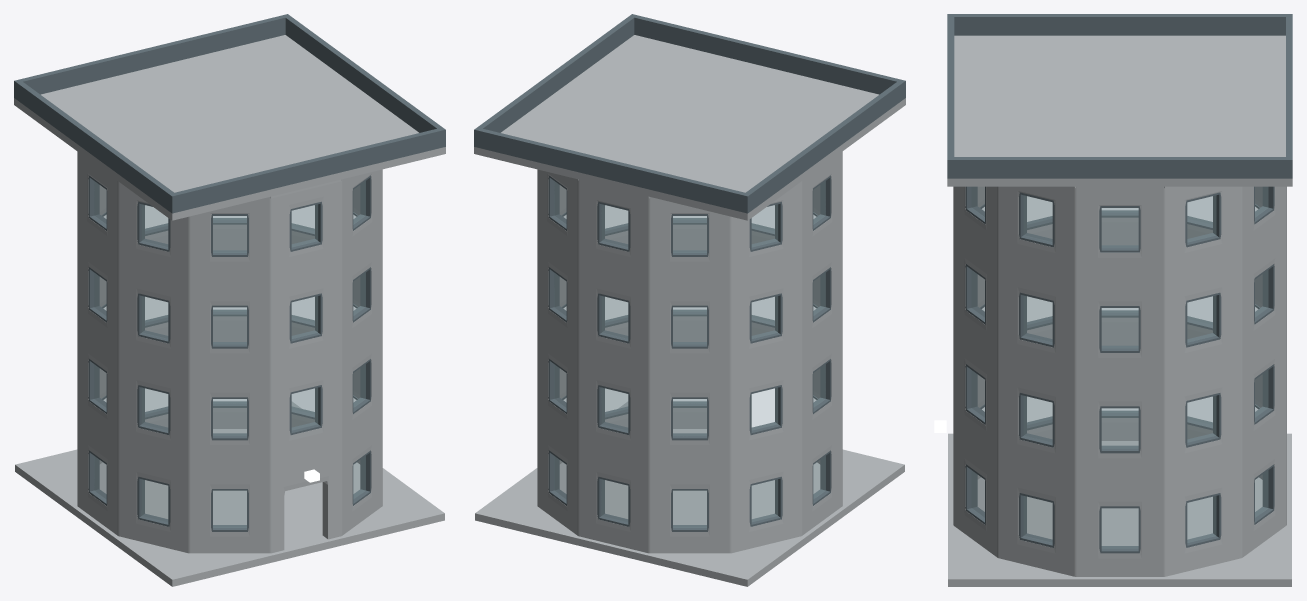
Rendered from tower_4_lod0.glb.
The picture shows the model from 3 angles, left to right: view 1: azimuth 30°, elevation 25°; view 2: azimuth 150°, elevation 25°; view 3: azimuth 270°, elevation 25°; orthographic projection. The views are drawn at different scales.
Parts seen in each view (by area): view 1: Ceiling baked, Wall_11 baked, Wall_0 baked, Wall_10 baked, Floor baked, Wall_9 baked, Wall_1 baked, Parapet baked, Parapet.002 baked, Parapet.001 baked, Parapet.003 baked, Wall_5 baked (+15 smaller); view 2: Ceiling baked, Wall_7 baked, Wall_6 baked, Wall_8 baked, Floor baked, Wall_9 baked, Wall_5 baked, Parapet.002 baked, Parapet baked, Parapet.001 baked, Parapet.003 baked, Wall_1 baked (+15 smaller); view 3: Ceiling baked, Wall_3 baked, Wall_4 baked, Wall_2 baked, Floor baked, Wall_5 baked, Wall_1 baked, Parapet.001 baked, Parapet.003 baked, Wall_9 baked, Glazing.011 baked, Glazing.012 baked (+34 smaller).
Boxes of the visible parts, left/top/right/bottom form: Ceiling baked: left=14, top=35, right=445, bottom=220; Wall_11 baked: left=189, top=197, right=270, bottom=553; Wall_0 baked: left=270, top=179, right=341, bottom=553; Wall_10 baked: left=118, top=181, right=189, bottom=553; Floor baked: left=15, top=401, right=444, bottom=586; Wall_9 baked: left=77, top=152, right=118, bottom=535; Wall_1 baked: left=341, top=169, right=382, bottom=535; Parapet baked: left=169, top=127, right=445, bottom=213; Parapet.002 baked: left=14, top=14, right=290, bottom=99; Parapet.001 baked: left=17, top=81, right=173, bottom=210; Parapet.003 baked: left=285, top=16, right=441, bottom=132; Wall_5 baked: left=213, top=224, right=246, bottom=428; Ceiling baked: left=474, top=35, right=905, bottom=220; Wall_7 baked: left=649, top=197, right=730, bottom=553; Wall_6 baked: left=578, top=179, right=649, bottom=553; Wall_8 baked: left=730, top=181, right=801, bottom=553; Floor baked: left=475, top=401, right=904, bottom=586; Wall_9 baked: left=801, top=152, right=842, bottom=535; Wall_5 baked: left=537, top=169, right=578, bottom=535; Parapet.002 baked: left=474, top=127, right=750, bottom=213; Parapet baked: left=629, top=14, right=905, bottom=99; Parapet.001 baked: left=746, top=81, right=902, bottom=210; Parapet.003 baked: left=478, top=16, right=634, bottom=132; Wall_1 baked: left=673, top=224, right=706, bottom=428; Ceiling baked: left=947, top=35, right=1292, bottom=186; Wall_3 baked: left=1075, top=186, right=1164, bottom=576; Wall_4 baked: left=1164, top=186, right=1241, bottom=576; Wall_2 baked: left=998, top=186, right=1075, bottom=576; Floor baked: left=948, top=433, right=1291, bottom=586; Wall_5 baked: left=1242, top=186, right=1286, bottom=557; Wall_1 baked: left=953, top=186, right=997, bottom=557; Parapet.001 baked: left=954, top=14, right=1285, bottom=35; Parapet.003 baked: left=954, top=157, right=1285, bottom=178; Wall_9 baked: left=1101, top=217, right=1138, bottom=440; Glazing.011 baked: left=1102, top=508, right=1138, bottom=548; Glazing.012 baked: left=1102, top=408, right=1138, bottom=448.
Bounding box in the file's own units: 10 × 13.65 × 10.38.
